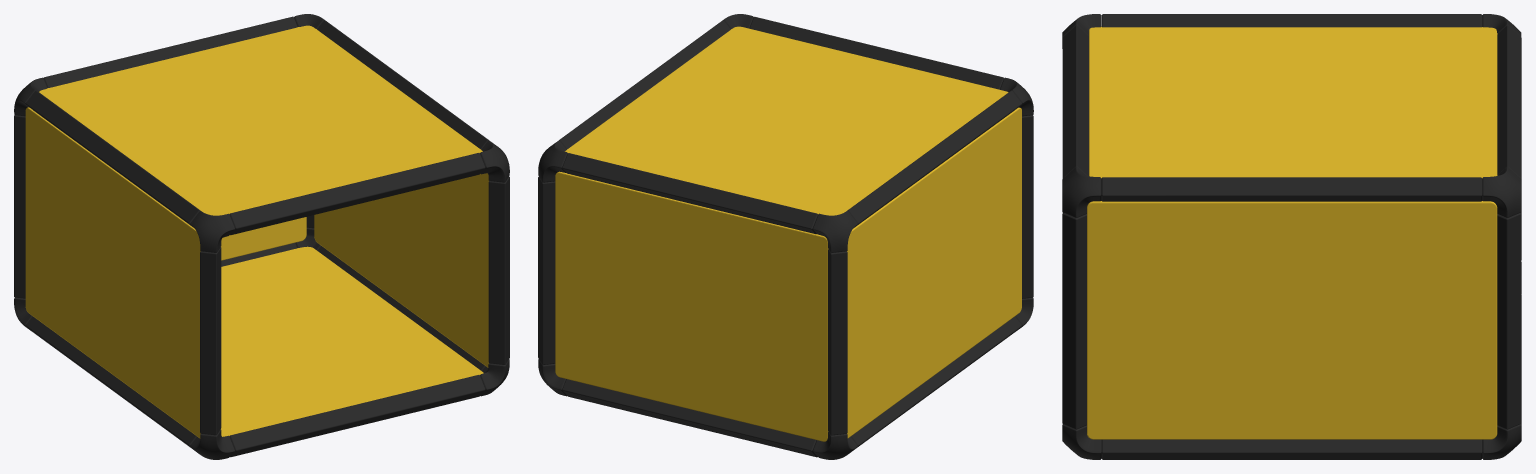
The picture shows the model from 3 angles, left to right: view 1: azimuth 30°, elevation 25°; view 2: azimuth 150°, elevation 25°; view 3: azimuth 270°, elevation 25°; orthographic projection. The views are drawn at different scales.
Visible parts, largest first — view 1: 329x374x229; view 2: 329x374x229; view 3: 329x374x229.
Part boxes in pixels (box(x1,y1,x2,y2)): 329x374x229: box(14, 14, 509, 459); 329x374x229: box(538, 14, 1033, 459); 329x374x229: box(1062, 14, 1521, 459).
Size of the model in its own units: 0.4067 by 0.3066 by 0.4513.
